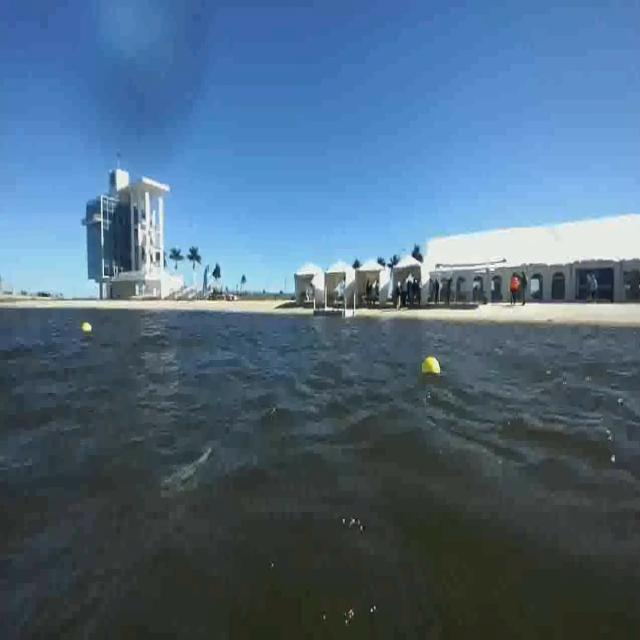yellow-buoy: (421, 356, 442, 376), (80, 318, 93, 337)
